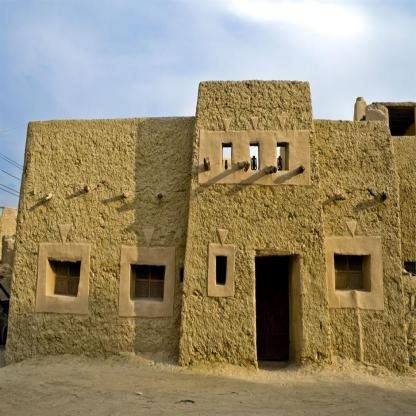Building Outline: (4, 80, 416, 374)
Door: (254, 257, 289, 362)
Door Hole: (254, 254, 302, 369)
Facade: (29, 122, 416, 367)
Floor Slab: (20, 185, 416, 193)
Ground Floor: (4, 192, 416, 374)
Top Floor: (21, 117, 416, 188)
Window: (333, 254, 371, 293), (129, 264, 166, 304), (46, 259, 81, 298), (216, 256, 227, 286)
Window Hole: (276, 143, 289, 171), (249, 144, 259, 171), (222, 144, 232, 170)
Window Outline: (198, 115, 311, 186), (324, 222, 385, 311), (117, 229, 176, 317), (35, 224, 91, 315), (207, 229, 235, 298)
